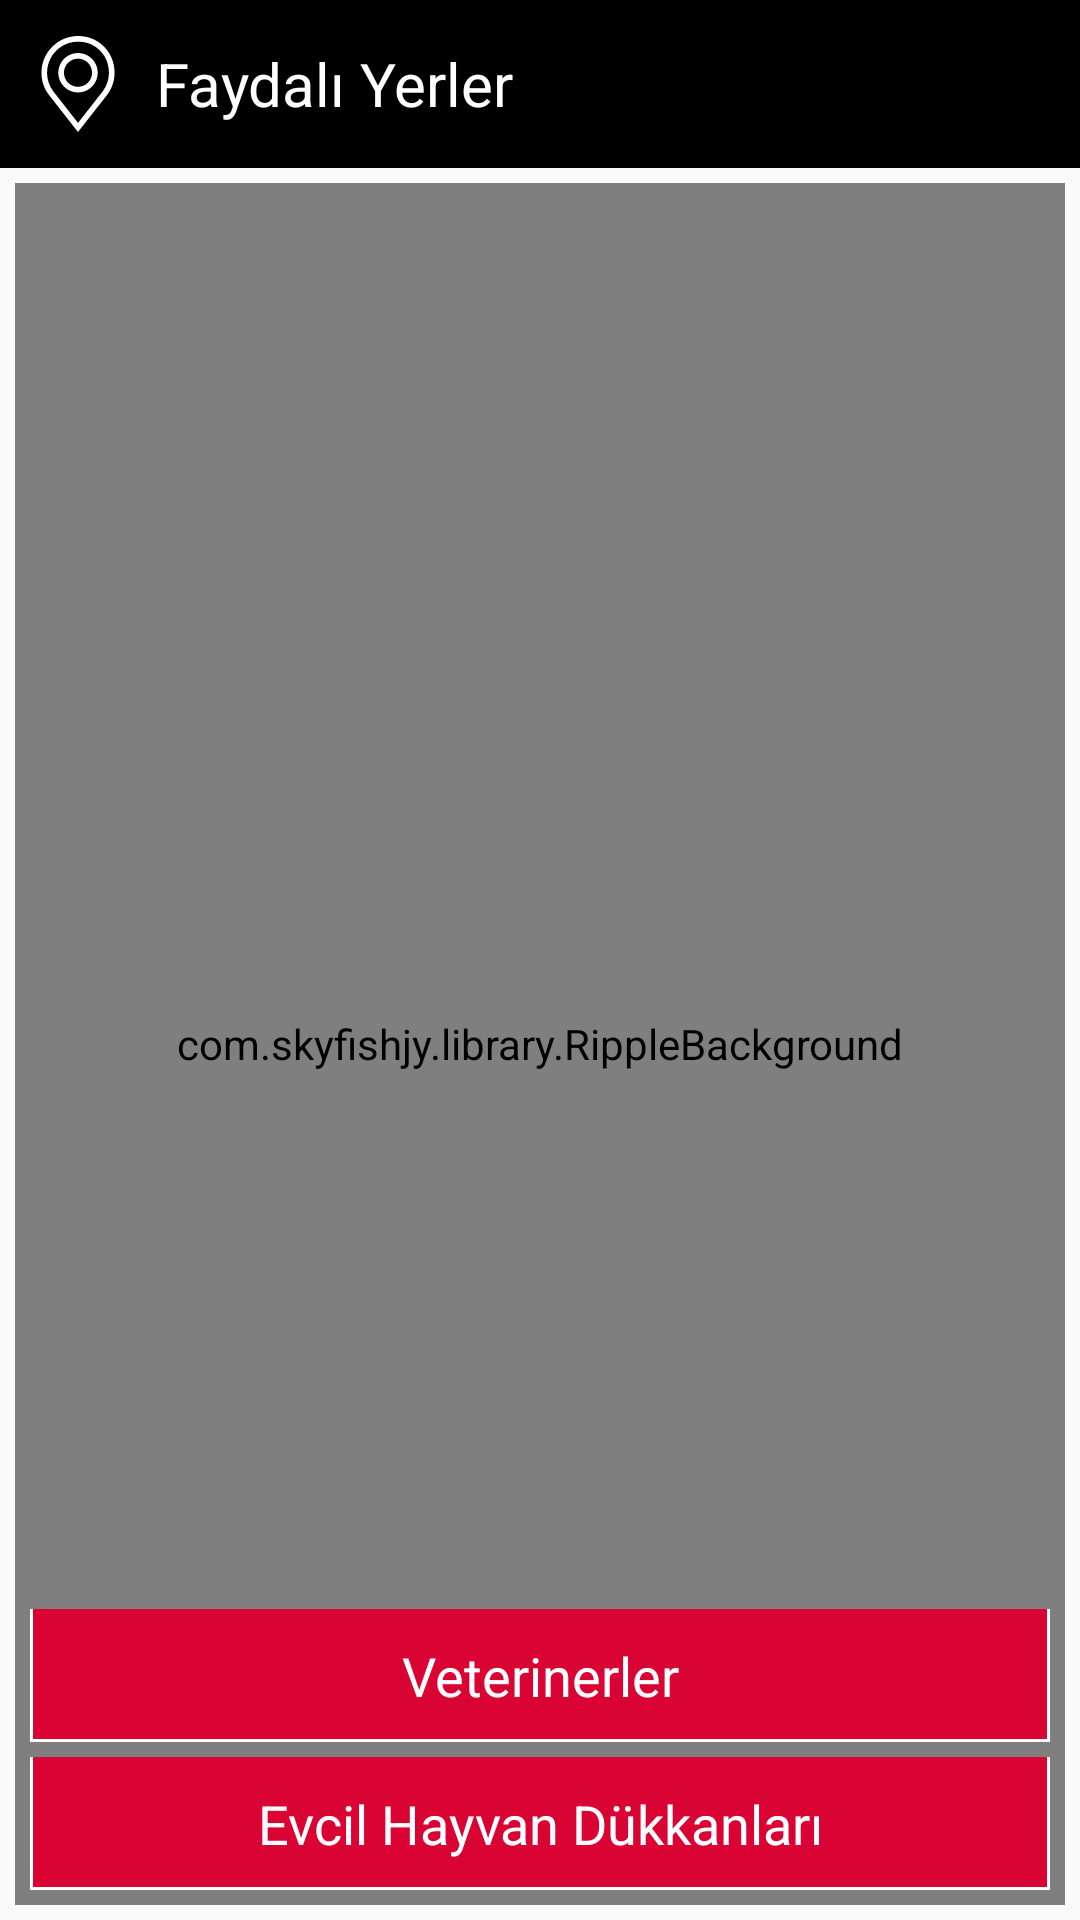

Icon click points for this 1080 x 1920 phone screenshot, format (x,y):
map bwhite: (78,84)
